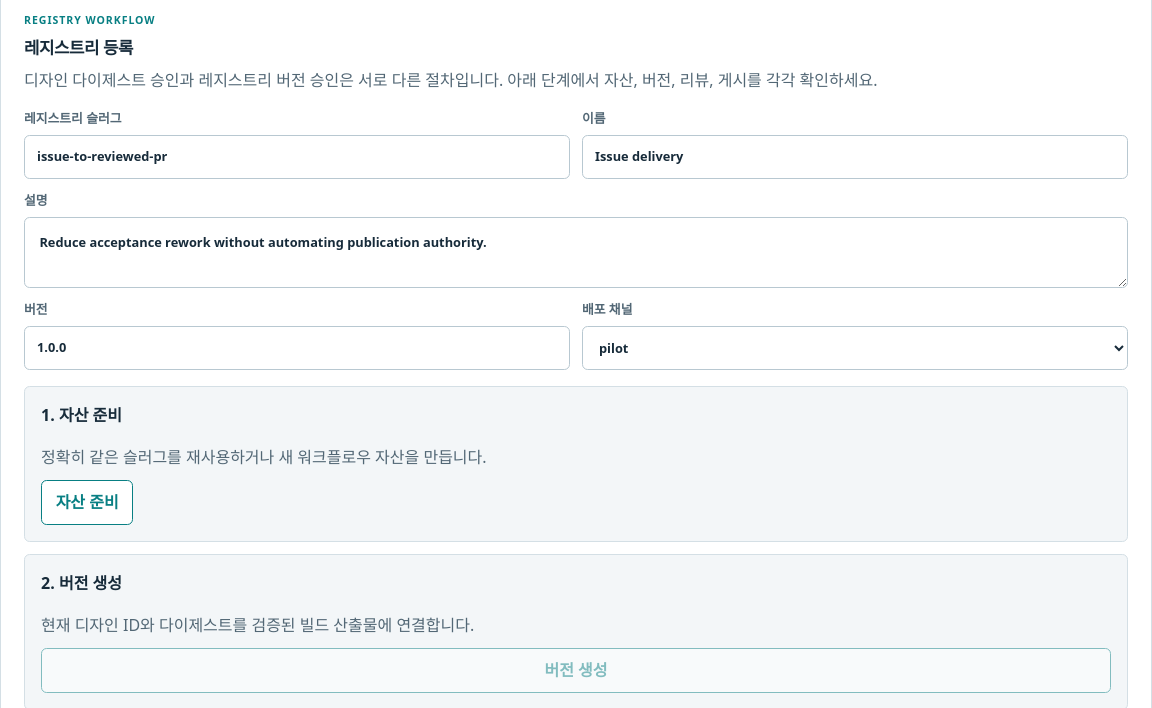
Test: RegistryPublishPanel › does not silently reuse a conflicting version with a different digest
The width and height of the screenshot is (1152, 708).
Click the button "자산 준비" at (87, 503), box [41,480,133,525]
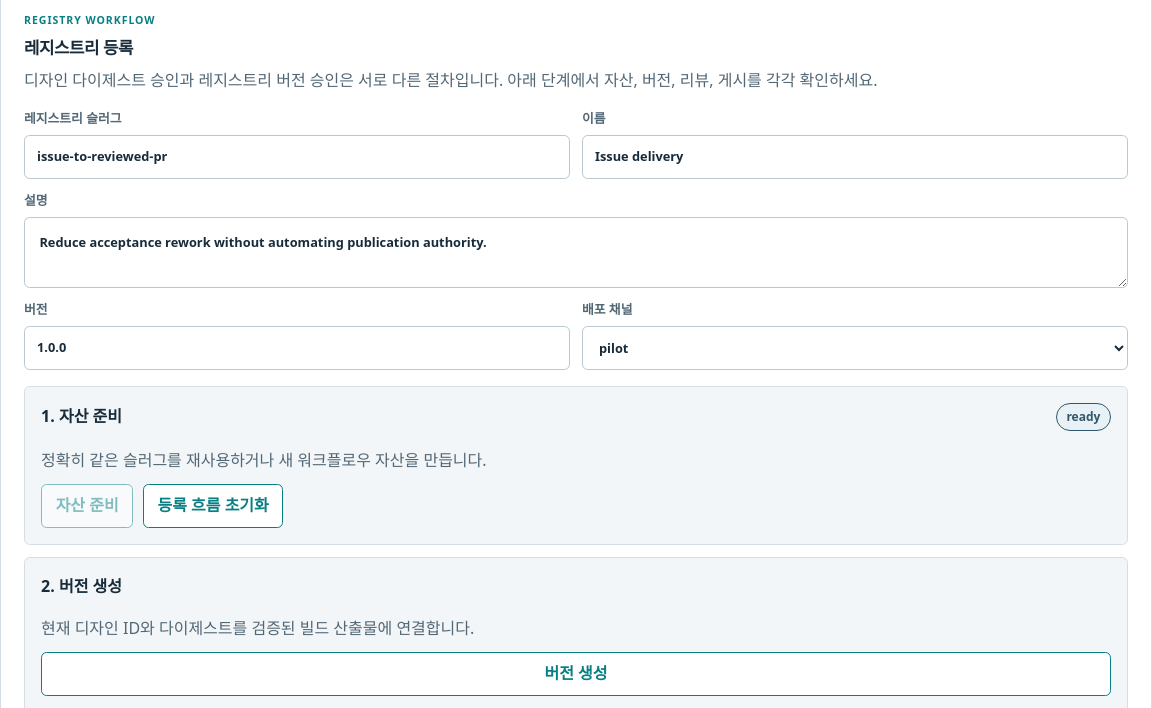
Click the button "버전 생성" at (576, 674), box [41,652,1111,696]
(page scrolled)
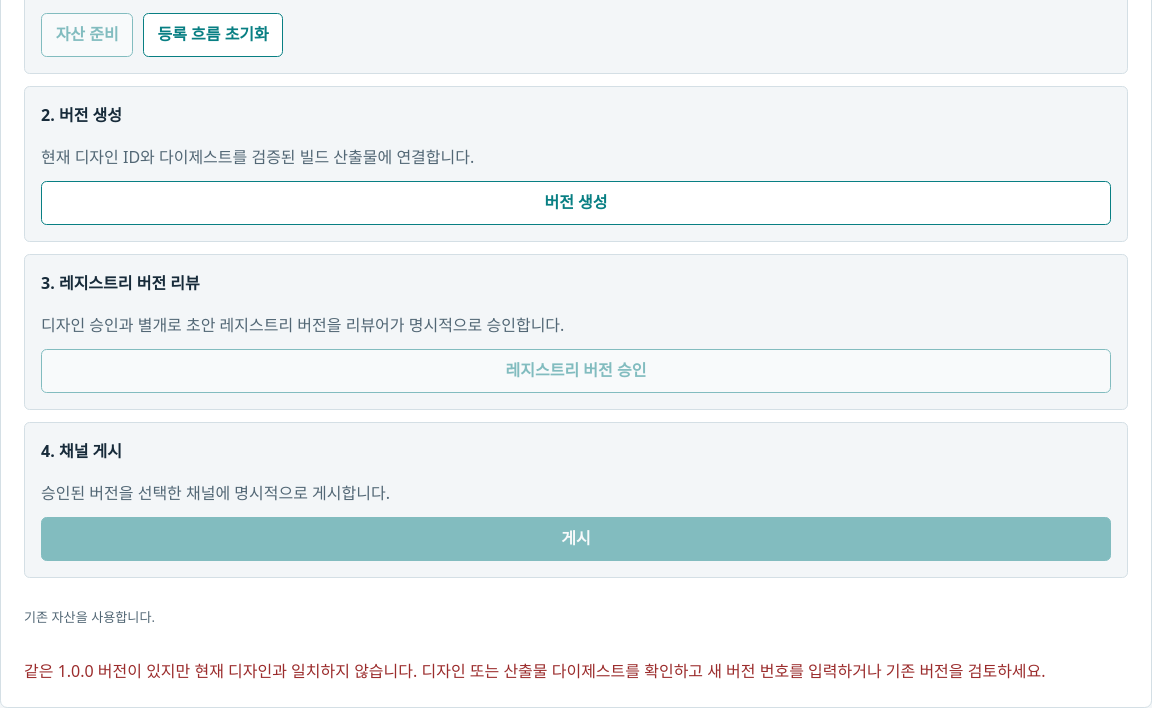
Expected: the button "레지스트리 버전 승인" is disabled, [41,349,1111,393]
Now the text "같은 1.0.0 버전이 있지만 현재 디자인과 일치하지 않습니다" is shown, box [24,660,1046,682]
